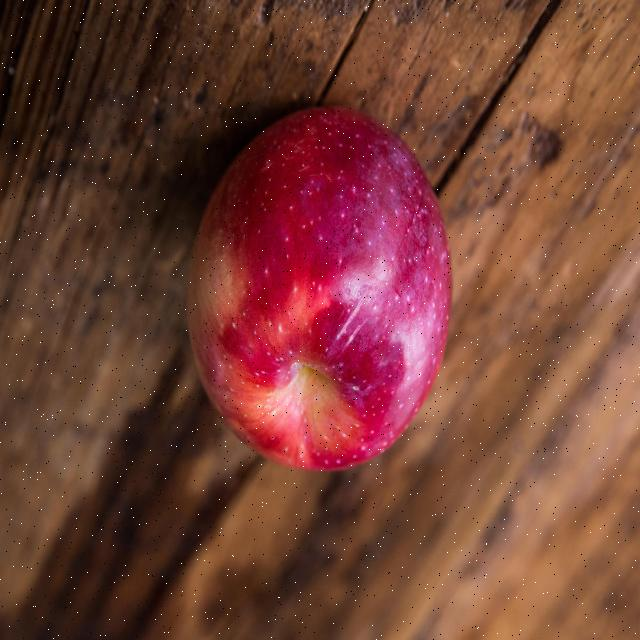Apel: (185, 106, 452, 473)
